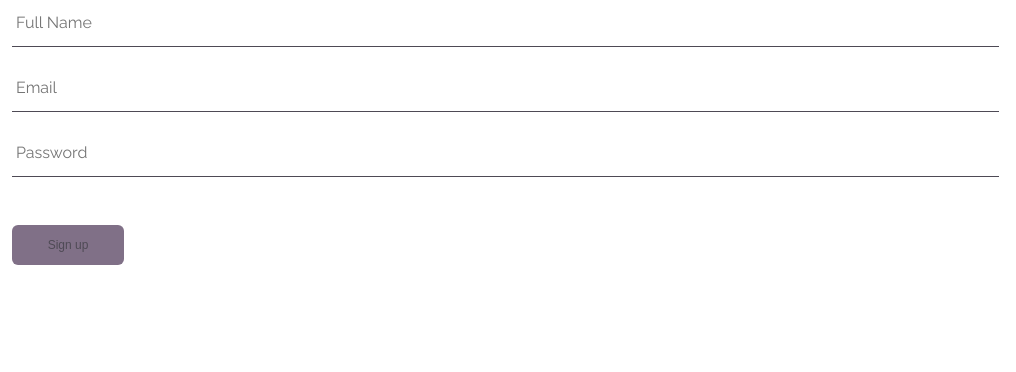
Test: RegistrationForm › shows validation errors on empty submit
The image size is (1016, 372).
Click the button "Sign up" at (68, 245), box [12,225,124,265]
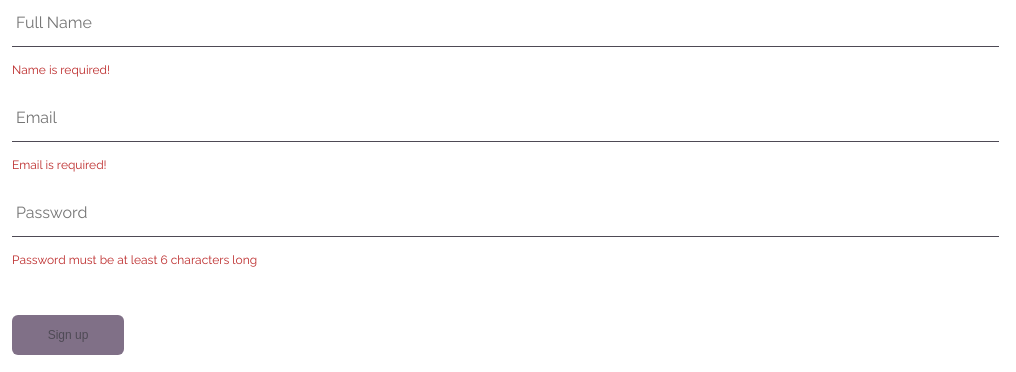
Expected: the text "Name is required!" is shown, [12,63,110,77]
Expected: the text "Email is required!" is shown, [12,158,107,172]
Expected: the text "Password must be at least 6 characters long" is shown, [12,253,257,267]
